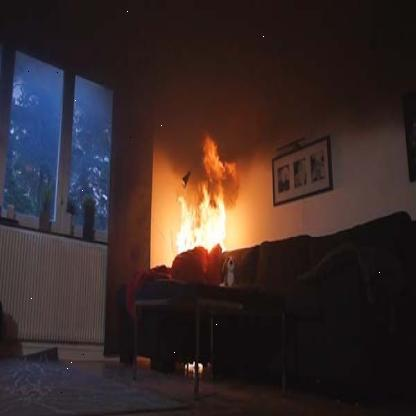fire: (165, 141, 229, 269)
smoke: (5, 0, 402, 302)
